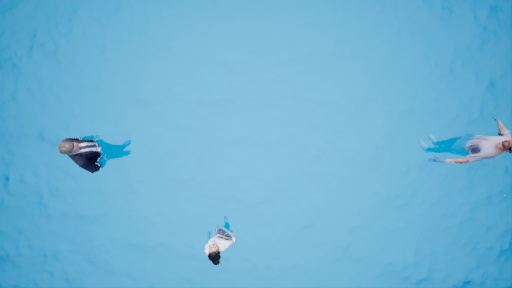person: (416, 114, 512, 169), (59, 134, 135, 174), (198, 216, 239, 265)
